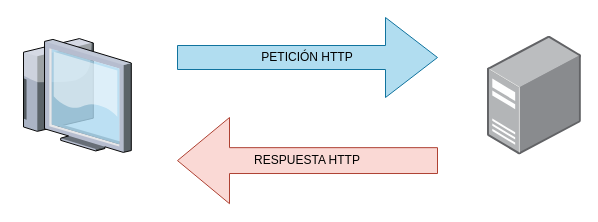
The diagram is 598 pixels wide and 222 high, and some of its shapes have lost their labels. The shapes that lost their labels are listed below. From the top down, each one's centre as x and y in pixels, then its label:
pixel 74 95: Cliente
pixel 534 95: Servidor
